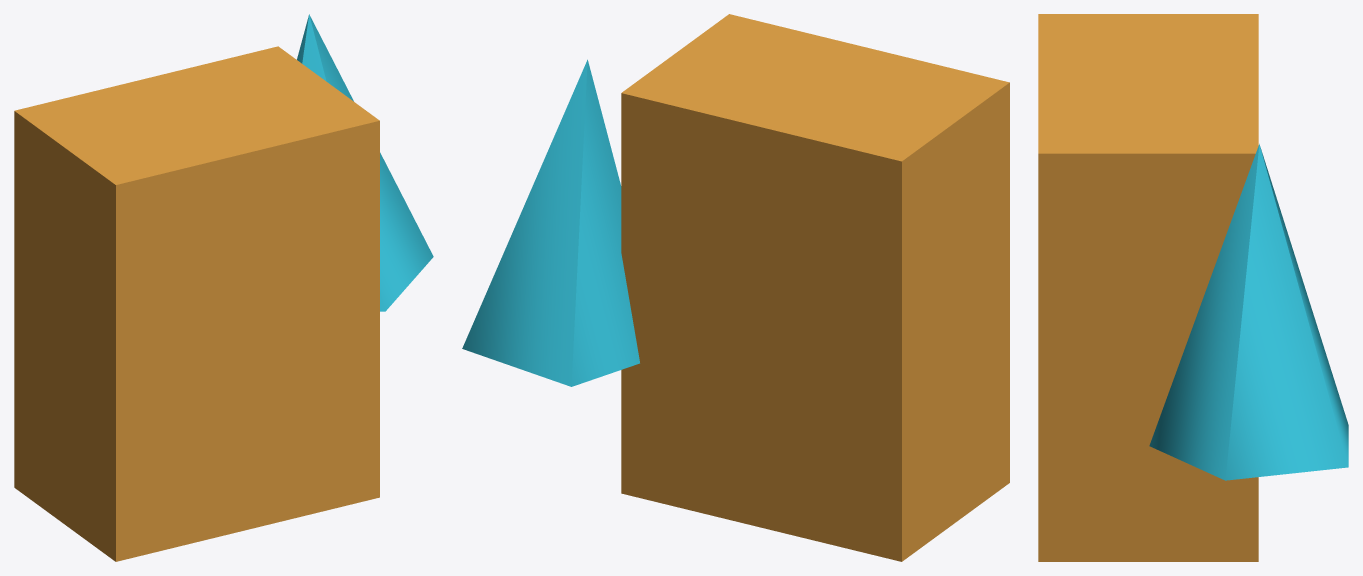
File: frame-01.glb
3 views of the same model, side by side, from view 1: azimuth 30°, elevation 25°; view 2: azimuth 150°, elevation 25°; view 3: azimuth 270°, elevation 25° (orthographic). The views are drawn at different scales.
Size of the model in its own units: 0.5051 by 0.4792 by 0.3097.
